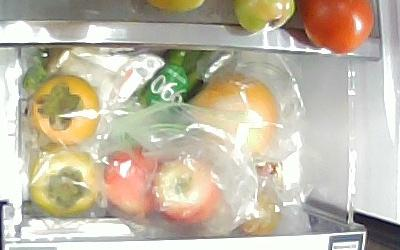apple_vinyl: (102, 148, 161, 225), (155, 157, 222, 224)
grapefruit_vinyl: (189, 75, 280, 154)
persimmon_vinyl: (26, 73, 101, 149), (31, 147, 102, 219)
prune_vinyl: (236, 187, 283, 236)
